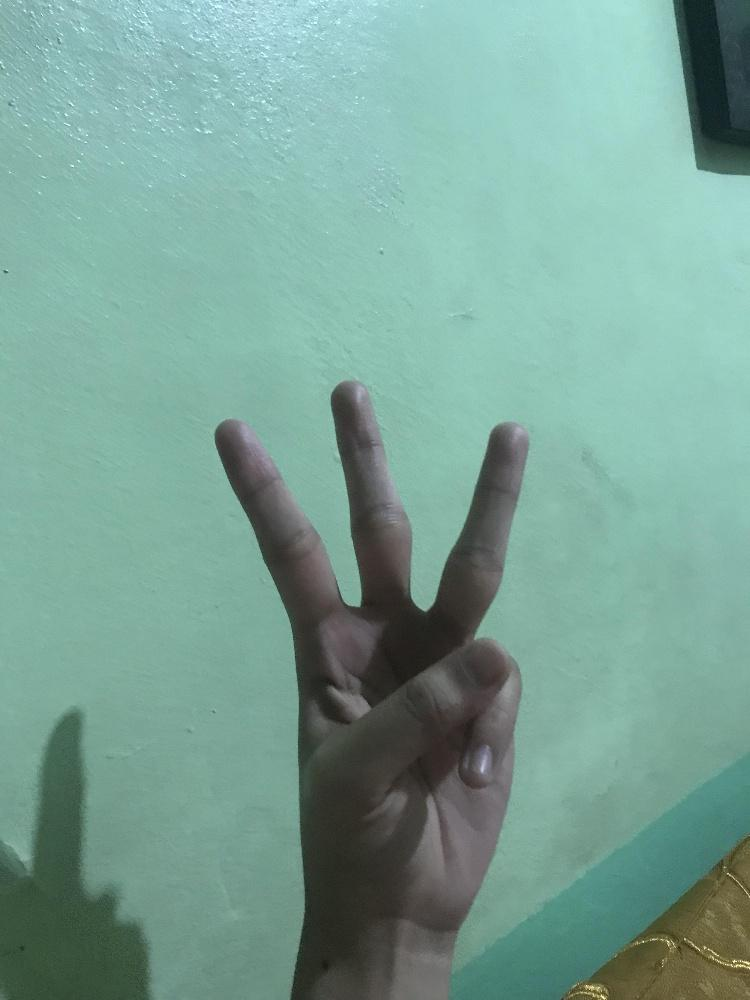w: (208, 373, 533, 934)
